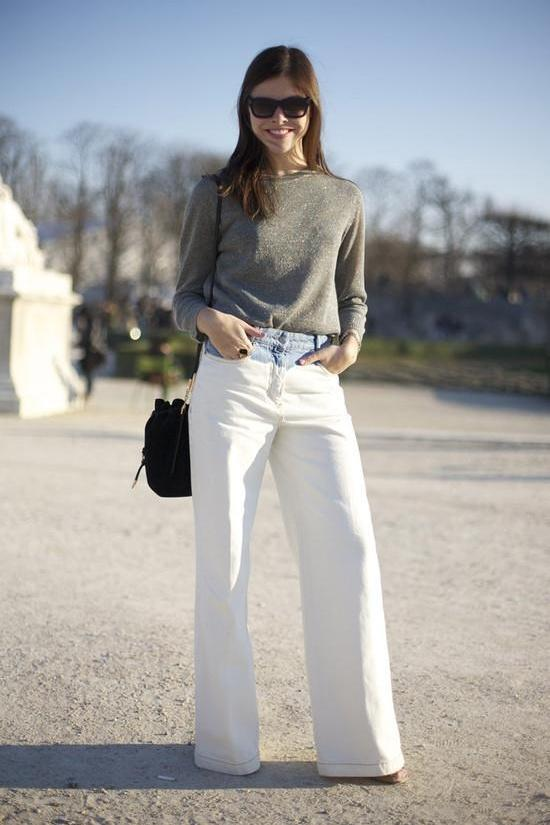Tshirt: (169, 162, 368, 343)
pants: (186, 328, 405, 778)
